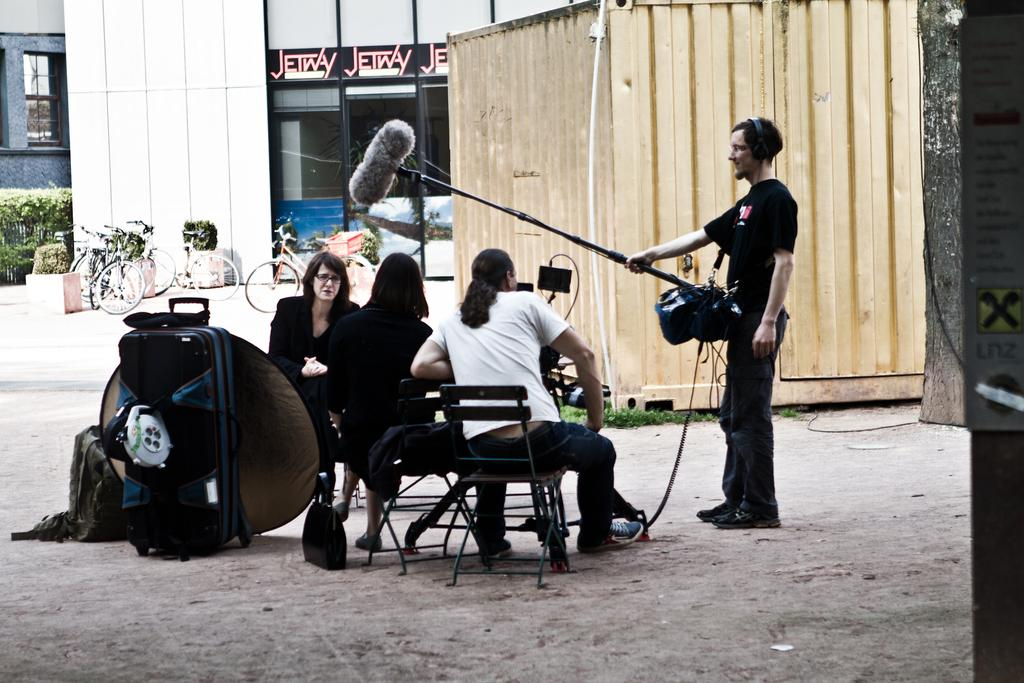Luggage-and-bags: (65, 311, 328, 571)
